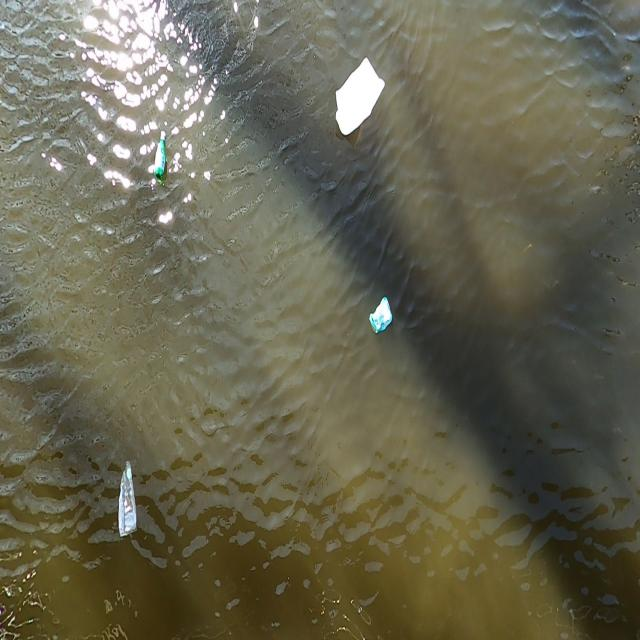Autre plastique: (331, 58, 388, 138), (366, 294, 394, 342)
Bouteille plastique: (148, 130, 169, 180)
